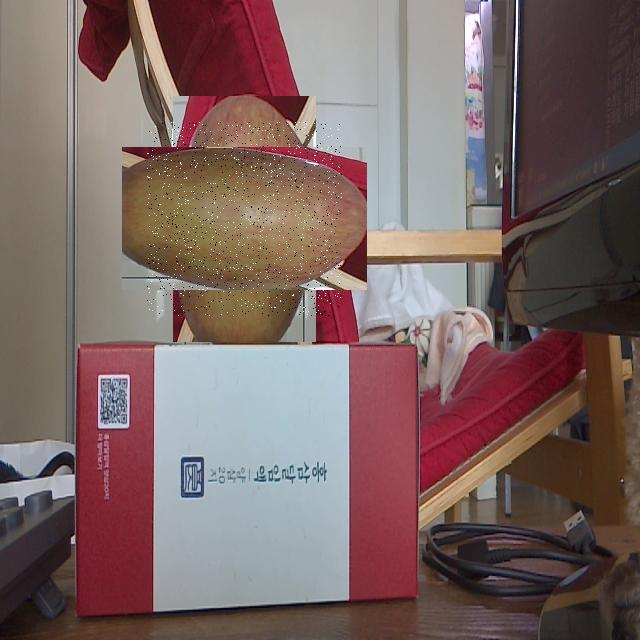apple: (147, 122, 342, 316)
